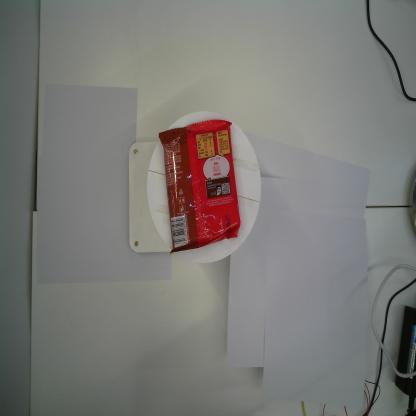Dessert: (158, 119, 241, 256)
